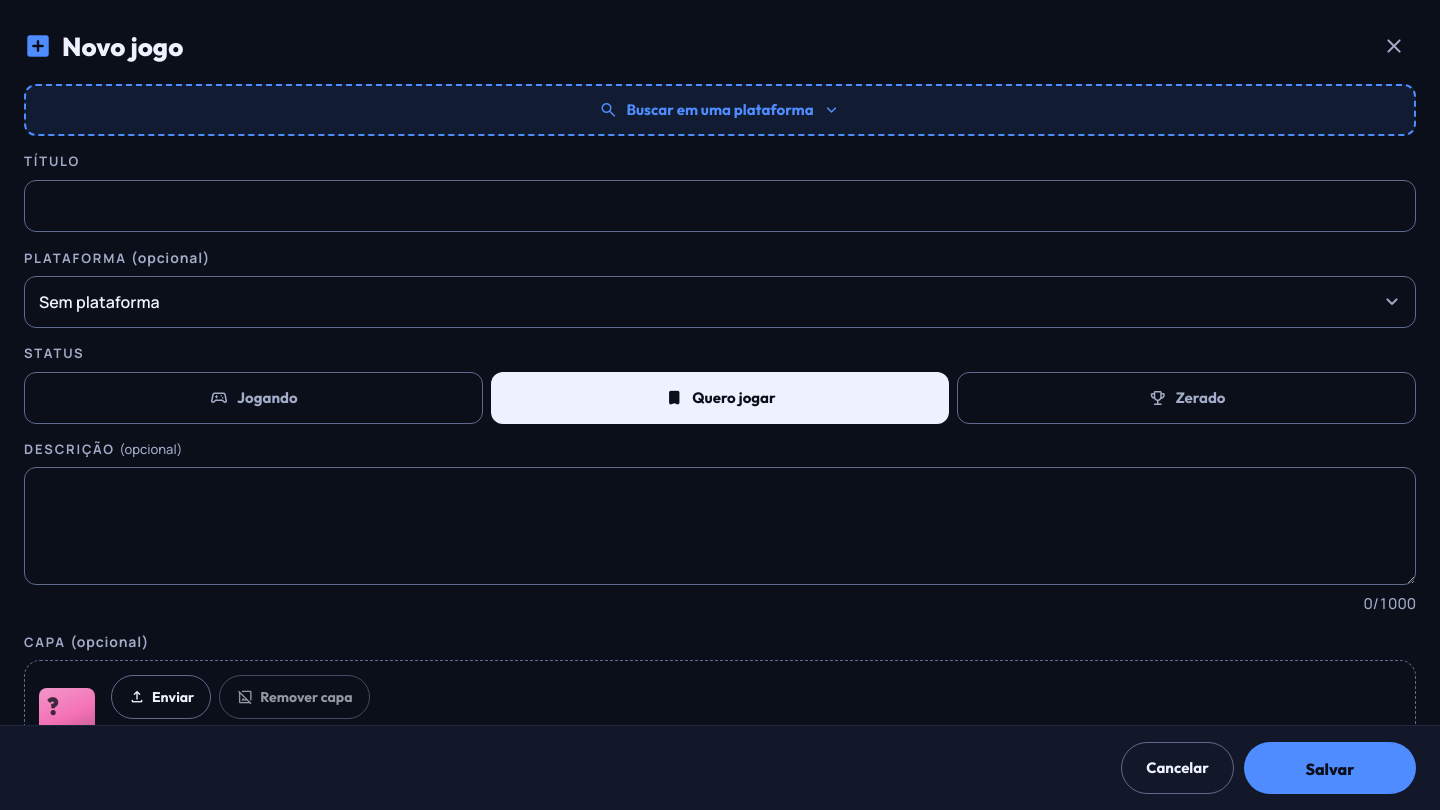
GameForm — buscar na Steam (jogo novo) › o cartão "Ligado à Steam" mostra as horas, a capa oficial em pé só como prévia, e "Trocar" reabre a busca (CA-49)
Click the button "Buscar em uma plataforma": (720, 110) [24,84,1416,136]
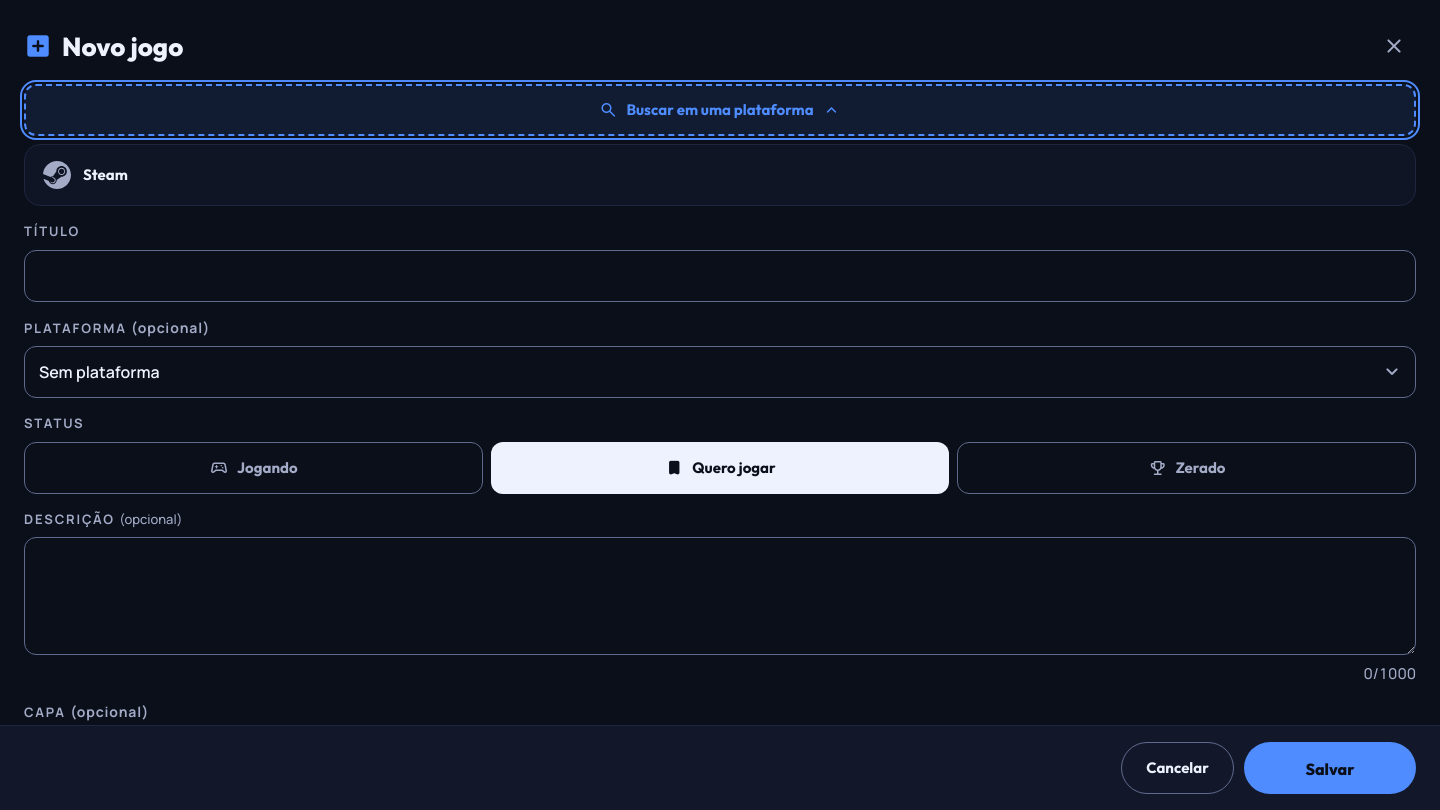
Click the menu item "Steam": (105, 174) [31,151,1409,199]
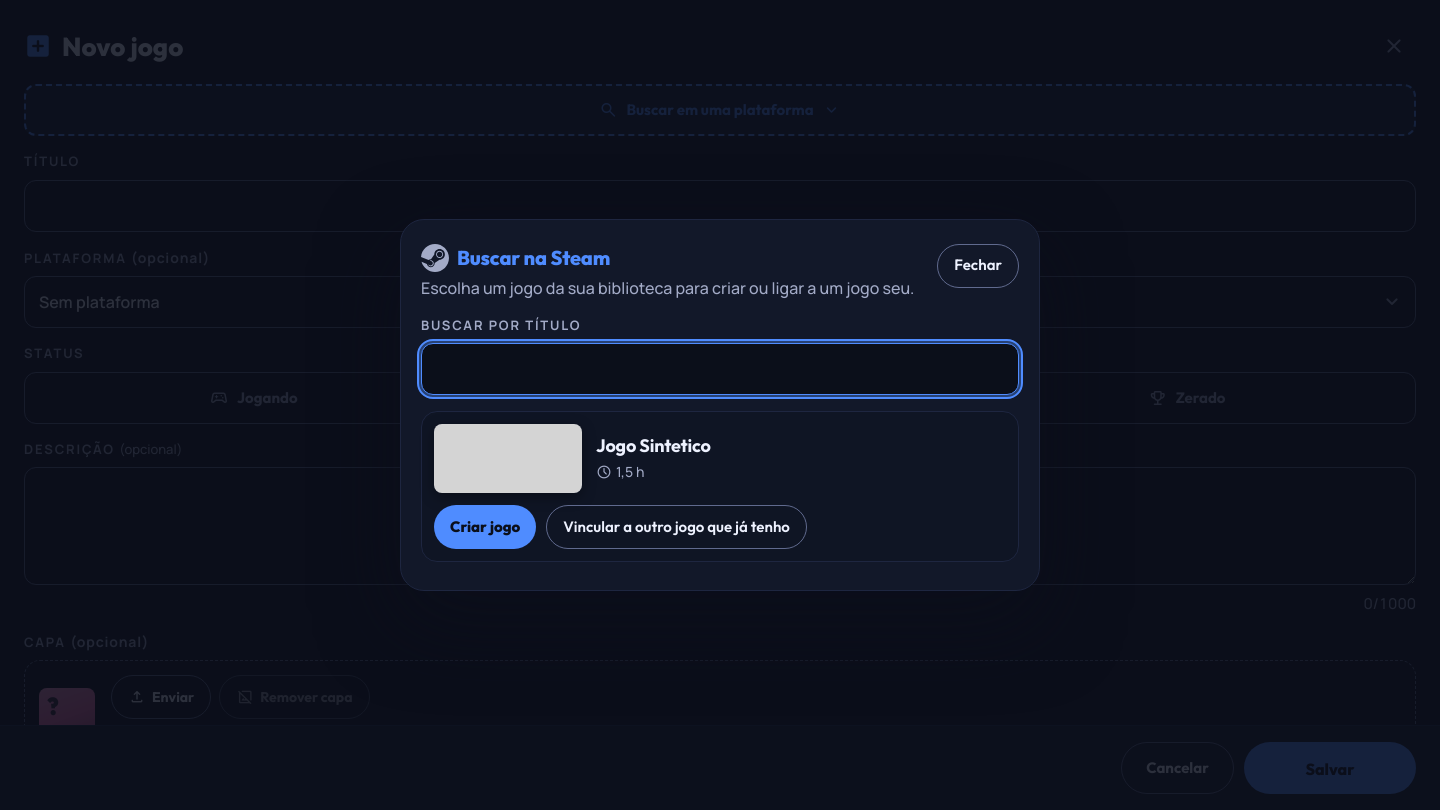
Click the button with aria-label "Criar jogo: Jogo Sintetico": (485, 527) [434,505,536,549]
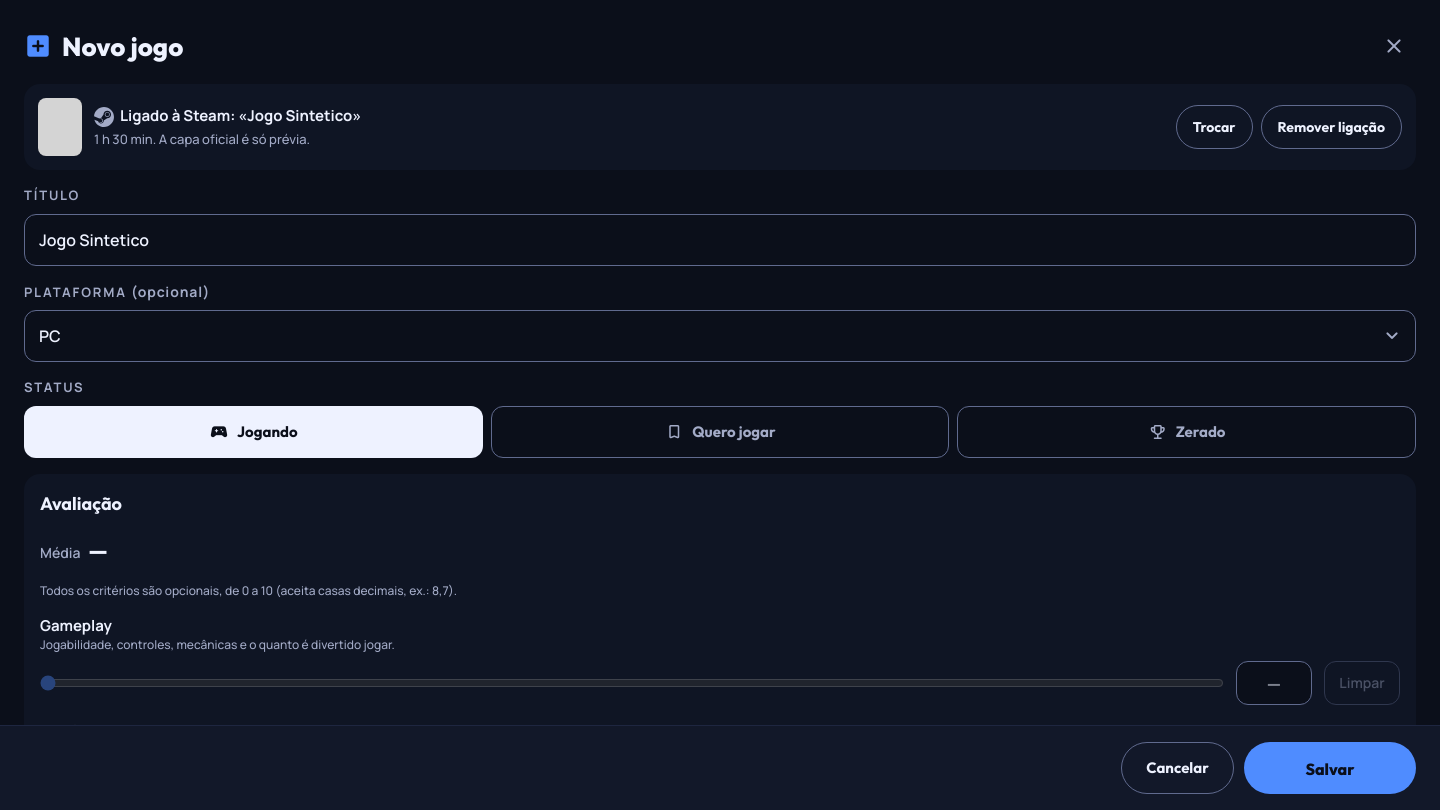
Now the text "1 h 30 min. A capa oficial é só prévia." is shown, box [94,130,310,148]
Click the button "Trocar": (1214, 127) [1176,105,1253,149]
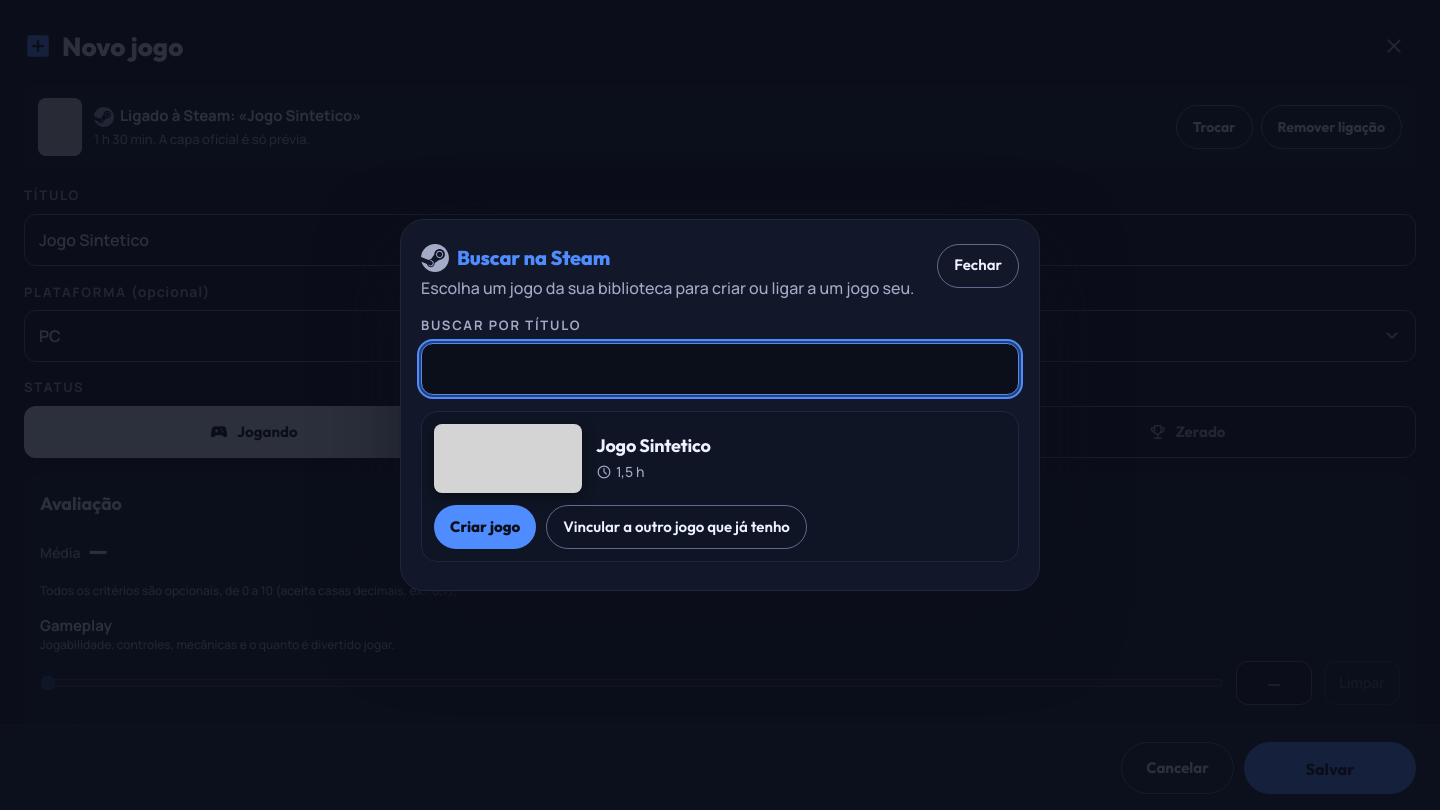
Now the button "Remover ligação" is shown, box [1261,105,1402,149]
Now the button with aria-label "Criar jogo: Jogo Sintetico" is shown, box [434,505,536,549]
